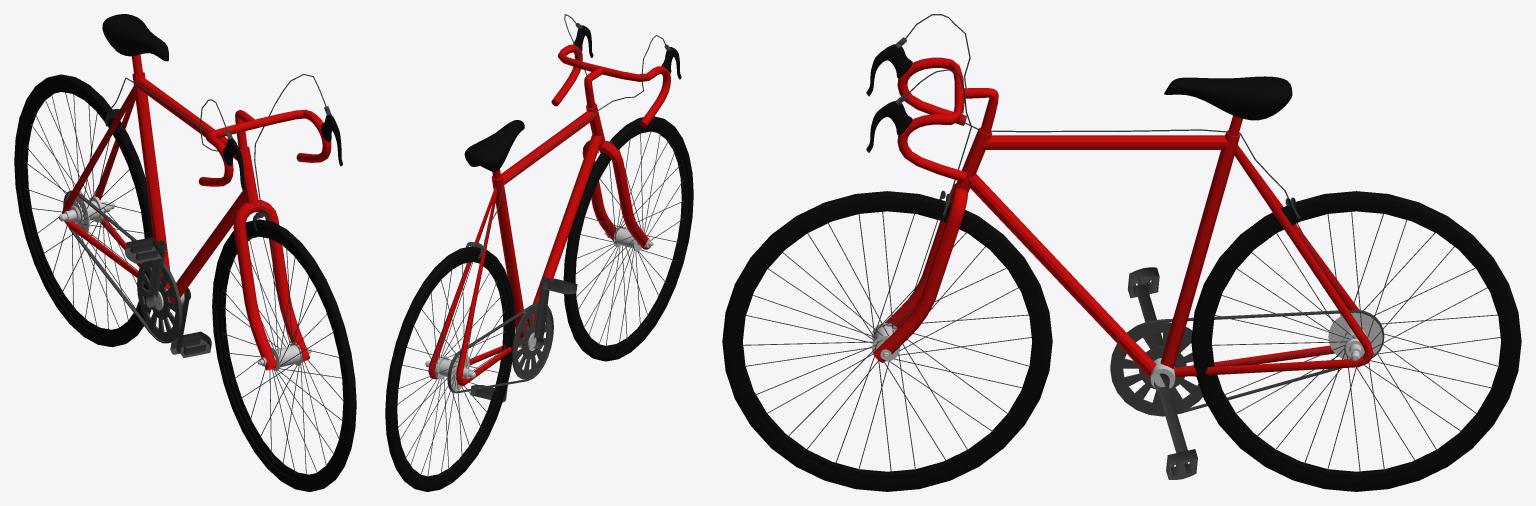
Rendered from Bici.obj.
3 views of the same model, side by side, from view 1: azimuth 30°, elevation 25°; view 2: azimuth 150°, elevation 25°; view 3: azimuth 270°, elevation 25° (orthographic). The views are drawn at different scales.
Visible parts, largest first — view 1: Circle, Circle.001, Plane.001, Plane, Circle.004, Circle.002, Vert.001, Plane.002, Circle.003, Pedal_R, Circle.008, Pedal_L (+4 smaller); view 2: Circle.001, Circle, Plane, Plane.001, Circle.004, Circle.002, Vert.001, Circle.003, Plane.002, Pedal_R, Circle.008, Plane.005 (+3 smaller); view 3: Circle.001, Circle, Plane, Plane.001, Circle.004, Circle.002, Vert.001, Plane.002, Circle.003, Pedal_L, Plane.005, Circle.008 (+3 smaller).
Boxes of the visible parts, <box> form: Circle: <box>212,219,356,491</box>; Circle.001: <box>14,74,153,347</box>; Plane.001: <box>62,86,310,370</box>; Plane: <box>132,72,258,302</box>; Circle.004: <box>223,237,343,475</box>; Circle.002: <box>25,92,144,330</box>; Vert.001: <box>131,54,331,186</box>; Plane.002: <box>102,14,168,61</box>; Circle.003: <box>137,260,178,341</box>; Pedal_R: <box>125,237,166,307</box>; Circle.008: <box>63,190,182,343</box>; Pedal_L: <box>170,288,211,357</box>; Circle.001: <box>385,246,515,491</box>; Circle: <box>563,116,693,361</box>; Plane: <box>491,103,605,338</box>; Plane.001: <box>428,140,650,385</box>; Circle.004: <box>576,132,683,345</box>; Circle.002: <box>397,262,505,475</box>; Vert.001: <box>492,44,670,179</box>; Circle.003: <box>511,305,551,379</box>; Plane.002: <box>464,120,524,171</box>; Pedal_R: <box>533,277,577,349</box>; Circle.008: <box>447,302,553,393</box>; Plane.005: <box>573,25,681,79</box>; Circle.001: <box>1191,191,1521,491</box>; Circle: <box>722,191,1052,491</box>; Plane: <box>954,127,1240,377</box>; Plane.001: <box>873,145,1373,376</box>; Circle.004: <box>743,212,1031,472</box>; Circle.002: <box>1212,212,1500,472</box>; Vert.001: <box>897,57,1242,182</box>; Plane.002: <box>1164,76,1292,120</box>; Circle.003: <box>1111,322,1202,414</box>; Pedal_L: <box>1154,373,1197,479</box>; Plane.005: <box>866,44,912,152</box>; Circle.008: <box>1110,309,1384,416</box>.
Bounding box in the file's own units: 0.6508 × 2.22 × 3.58.
